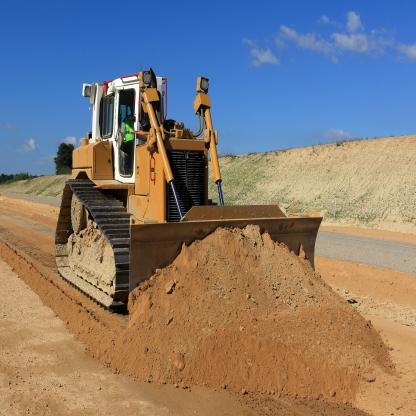bull_dozer/loader/grader: (34, 46, 342, 342)
